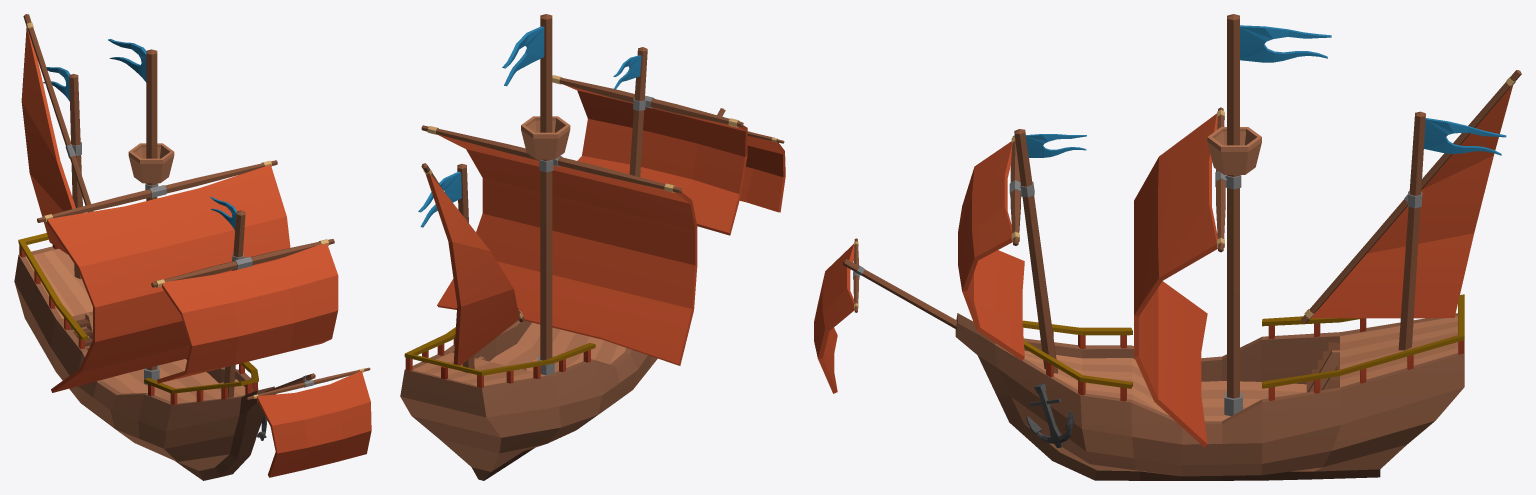
File: ship-medium-3.glb
The picture shows the model from 3 angles, left to right: view 1: azimuth 30°, elevation 25°; view 2: azimuth 150°, elevation 25°; view 3: azimuth 270°, elevation 25°; orthographic projection. The views are drawn at different scales.
Visible parts, largest first — view 1: ship medium 3; view 2: ship medium 3; view 3: ship medium 3.
Part boxes in pixels (x1,y1,x2,y2): ship medium 3: (14,14,371,480); ship medium 3: (400,14,785,480); ship medium 3: (814,14,1521,480).
Bounding box in the file's own units: 15.01 × 23.07 × 31.91.
Materials: 1 (1 with a texture image).
